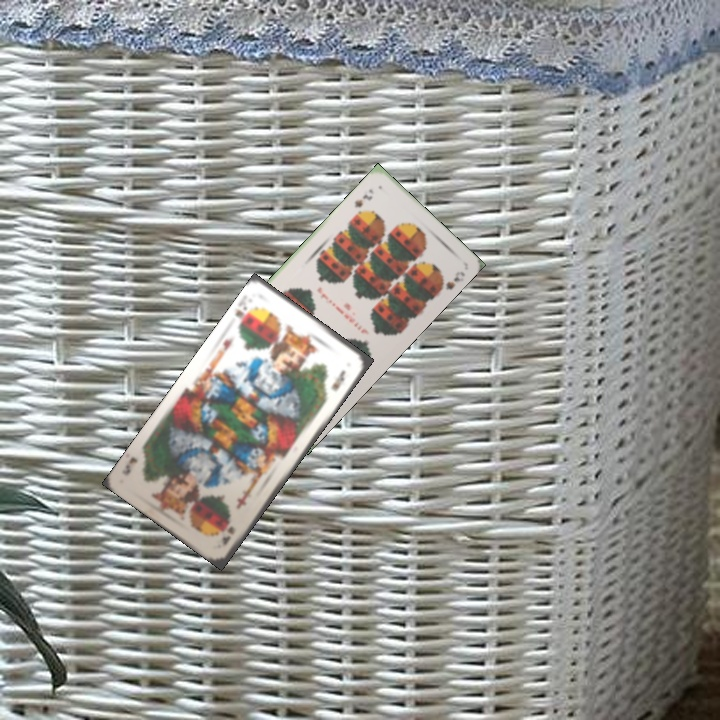S9: (350, 185, 377, 210)
SK: (231, 301, 258, 330), (218, 522, 237, 549)
